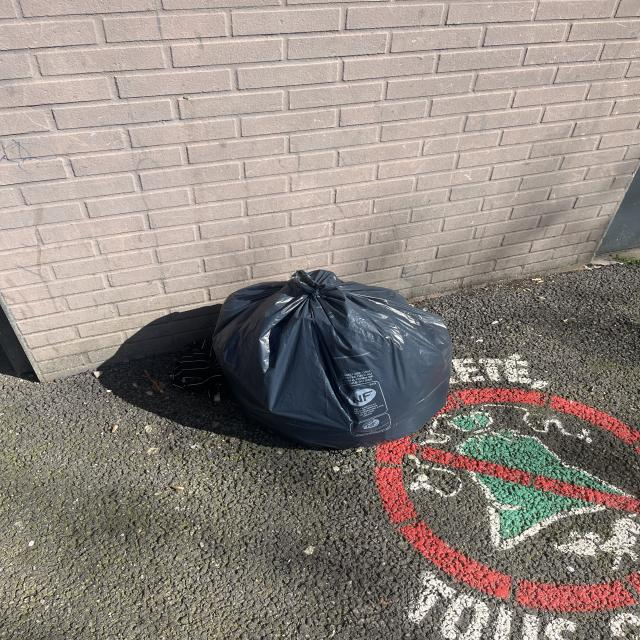Garbage bag: (212, 270, 452, 449)
